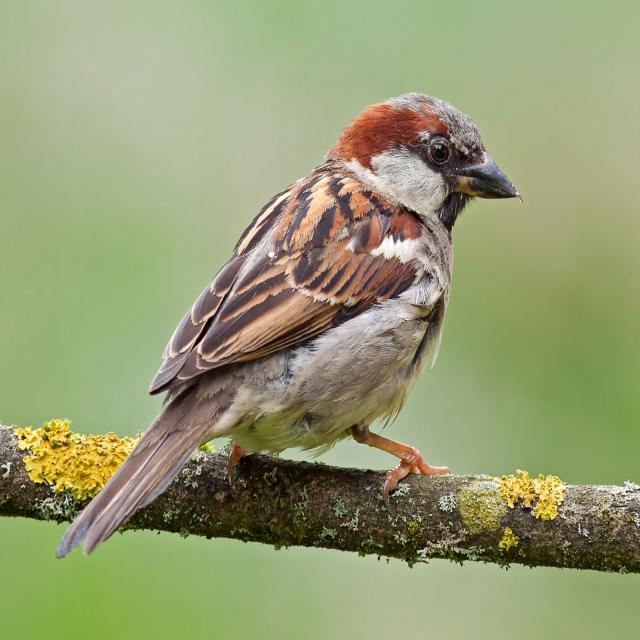Sparrow: (66, 83, 522, 562)
